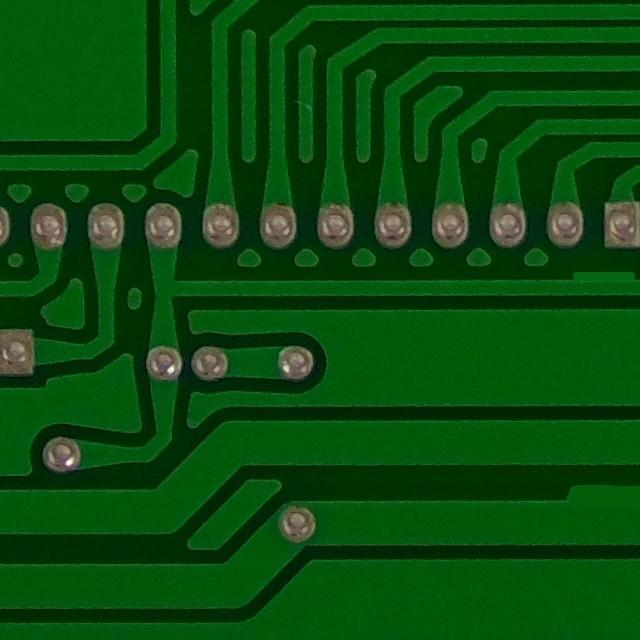spur: (553, 466, 640, 522), (560, 263, 640, 302)
